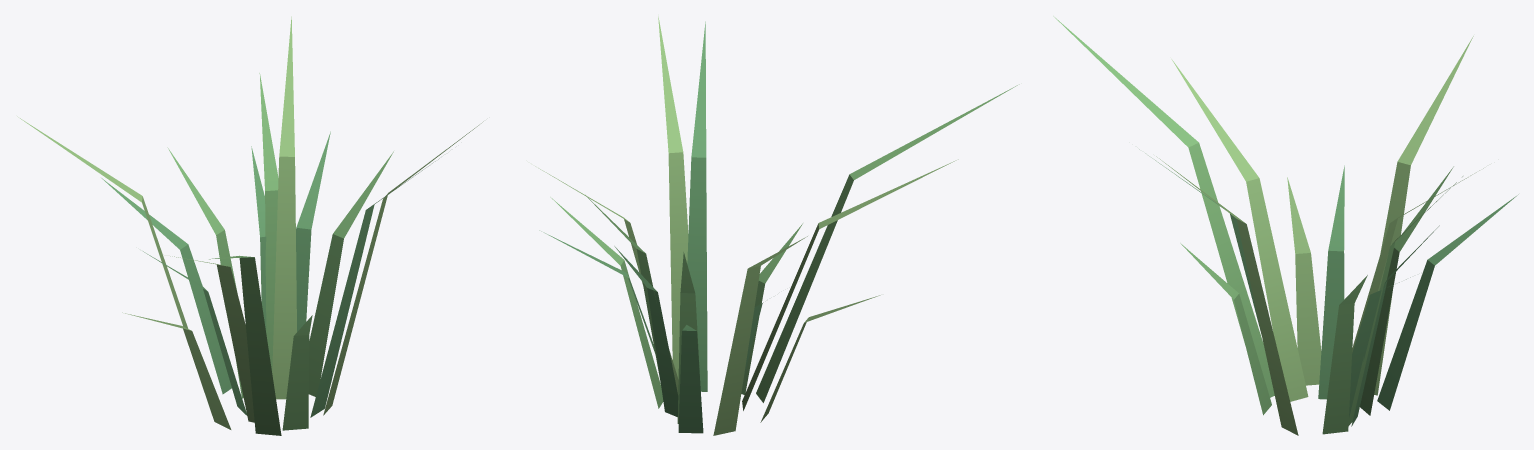
Rendered from gras_3.glb.
3 views of the same model, side by side, from view 1: azimuth 30°, elevation 25°; view 2: azimuth 150°, elevation 25°; view 3: azimuth 270°, elevation 25° (orthographic). The views are drawn at different scales.
Visible parts, largest first — view 1: G_gras_3; view 2: G_gras_3; view 3: G_gras_3.
Boxes of the visible parts, x1=… form: G_gras_3: x1=17, y1=16, x2=483, y2=435; G_gras_3: x1=535, y1=16, x2=1019, y2=435; G_gras_3: x1=1053, y1=16, x2=1518, y2=435.
Bounding box in the file's own units: 1.2 × 1.08 × 1.4.
